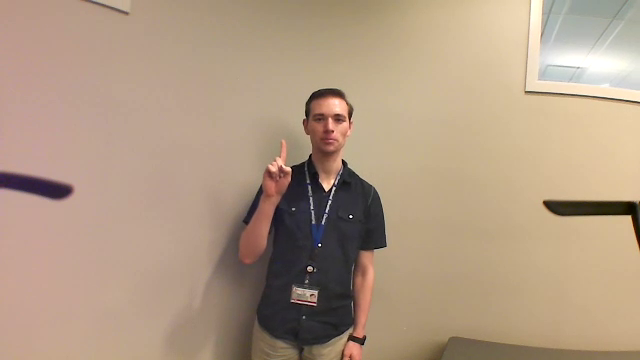up: (255, 136, 296, 201)
